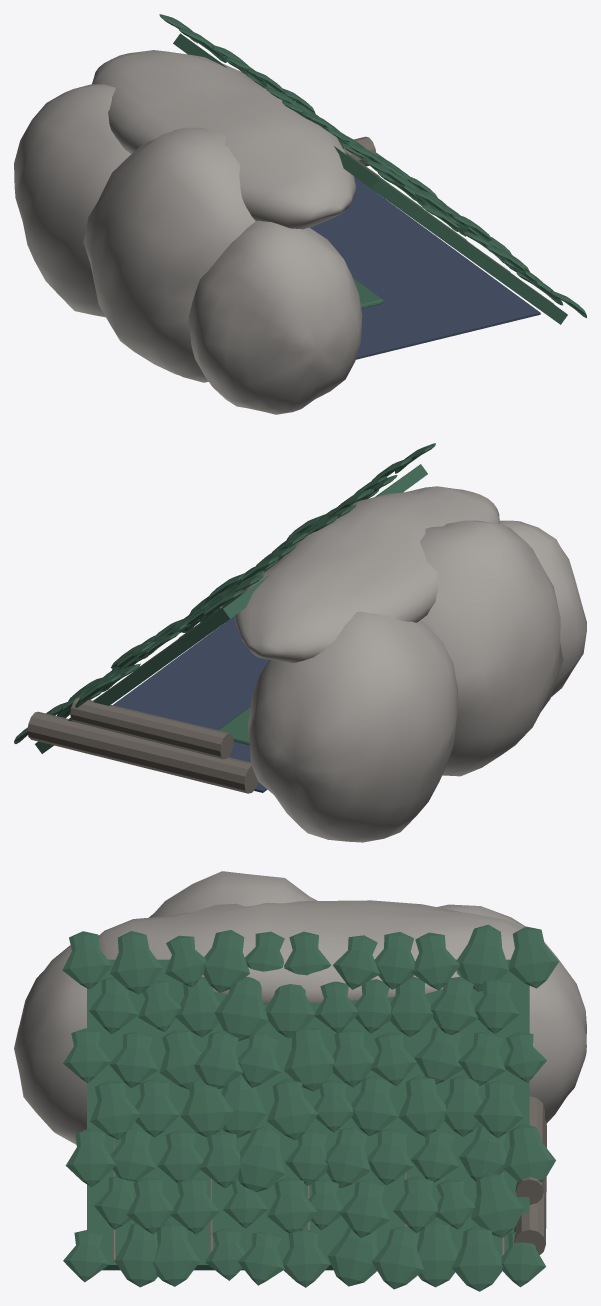
The model's file is RockOverhang.glb.
The picture shows the model from 3 angles, top to bottom: view 1: azimuth 30°, elevation 25°; view 2: azimuth 150°, elevation 25°; view 3: azimuth 270°, elevation 25°; orthographic projection. The views are drawn at different scales.
Visible parts, largest first — view 1: s1_5__rock, s1_2__cleared, s4_5__thatch, s4_5__roofmat; view 2: s1_5__rock, s1_2__cleared, s5_5__endlog, s4_5__thatch, s5_5__endlog2, s4_5__roofmat, s3_5__bedthick; view 3: s4_5__thatch, s1_5__rock, s4_5__roofmat, s5_5__endlog, s5_5__endlog2.
Boxes of the visible parts, box(x1,y1,x2,y2) form: s1_5__rock: box(14, 50, 362, 414); s1_2__cleared: box(310, 176, 540, 359); s4_5__thatch: box(159, 14, 586, 318); s4_5__roofmat: box(173, 33, 567, 324); s1_5__rock: box(234, 486, 586, 842); s1_2__cleared: box(112, 616, 269, 792); s5_5__endlog: box(27, 711, 258, 793); s4_5__thatch: box(14, 443, 435, 743); s5_5__endlog2: box(70, 697, 233, 759); s4_5__roofmat: box(35, 464, 427, 753); s3_5__bedthick: box(217, 706, 250, 745); s4_5__thatch: box(62, 924, 558, 1291); s1_5__rock: box(14, 871, 586, 1144); s4_5__roofmat: box(87, 959, 529, 1270); s5_5__endlog: box(514, 1119, 546, 1254); s5_5__endlog2: box(515, 1096, 544, 1204).
Size of the model in its own units: 4.89 by 2.81 by 5.3.
